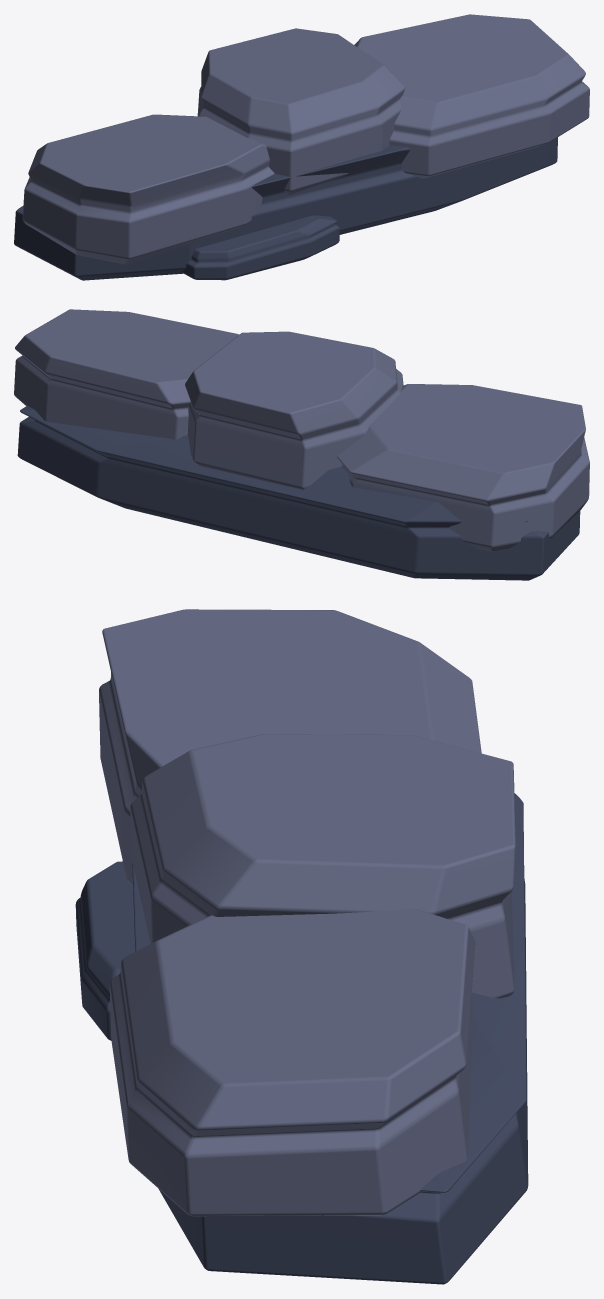
Rendered from SM_CC_RockWallLow.fbx.
3 renders of one model, top to bottom at view 1: azimuth 30°, elevation 25°; view 2: azimuth 150°, elevation 25°; view 3: azimuth 270°, elevation 25°, orthographic. The views are drawn at different scales.
Parts seen in each view (by area): view 1: SM_CC_RockWallLow; view 2: SM_CC_RockWallLow; view 3: SM_CC_RockWallLow.
Boxes of the visible parts, x1=… form: SM_CC_RockWallLow: x1=14, y1=14, x2=589, y2=280; SM_CC_RockWallLow: x1=14, y1=309, x2=589, y2=580; SM_CC_RockWallLow: x1=75, y1=609, x2=528, y2=1284.
Bounding box in the file's own units: 4 × 1.5 × 0.9996.
